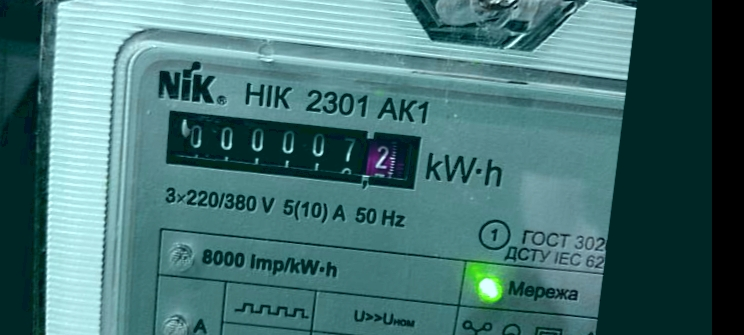0: (214, 127, 235, 156), (245, 128, 266, 157), (306, 133, 326, 163), (184, 125, 204, 154), (277, 130, 295, 159)
2: (370, 145, 390, 176)
7: (336, 138, 355, 168)
screen: (152, 99, 432, 205)
